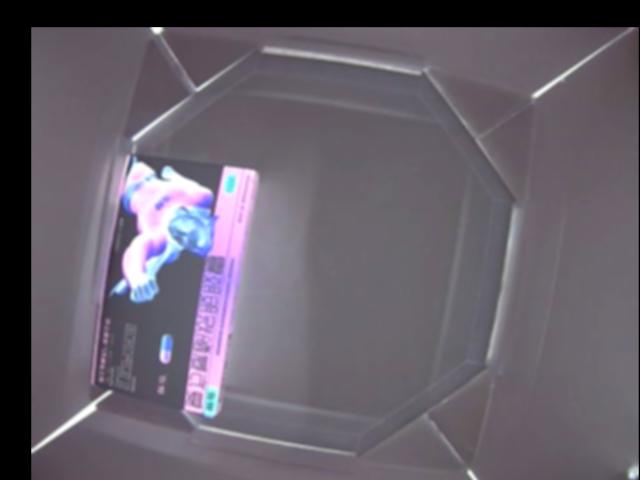Medicine: (94, 155, 258, 418)
